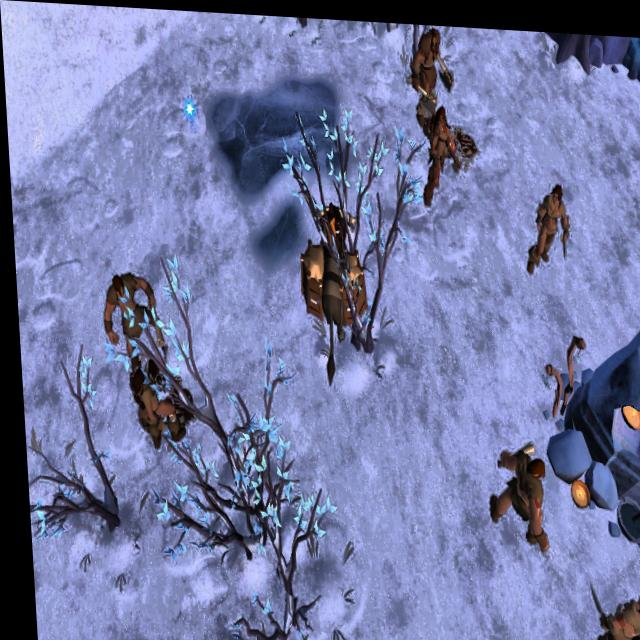enemy_factionKeeper: (481, 434, 547, 538), (98, 262, 158, 374), (521, 172, 570, 273), (418, 95, 463, 199), (126, 369, 179, 456), (407, 21, 455, 106), (582, 577, 640, 640)
